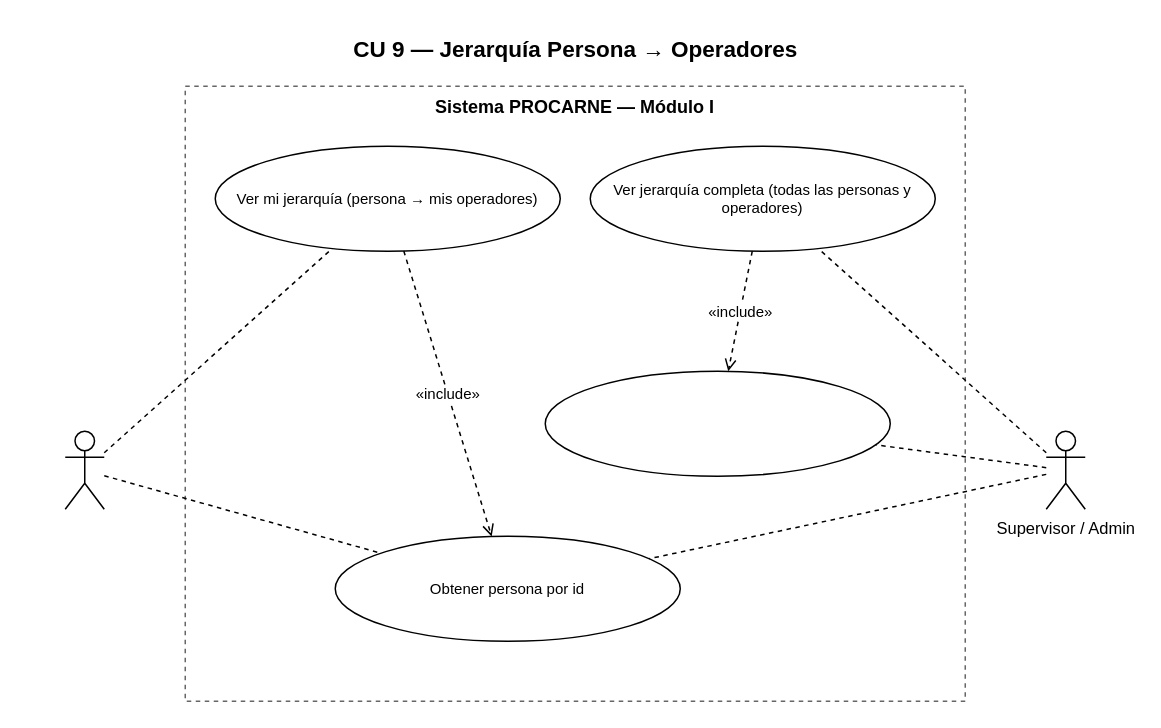
Some shapes in this 1161 by 728 pixel diagram are drawn without their labels. The box of each missing label's shape, as (x1, y1, x2, y2) in pixels:
Listar personas: (544, 370, 890, 476)
Persona (titular): (64, 430, 104, 509)
